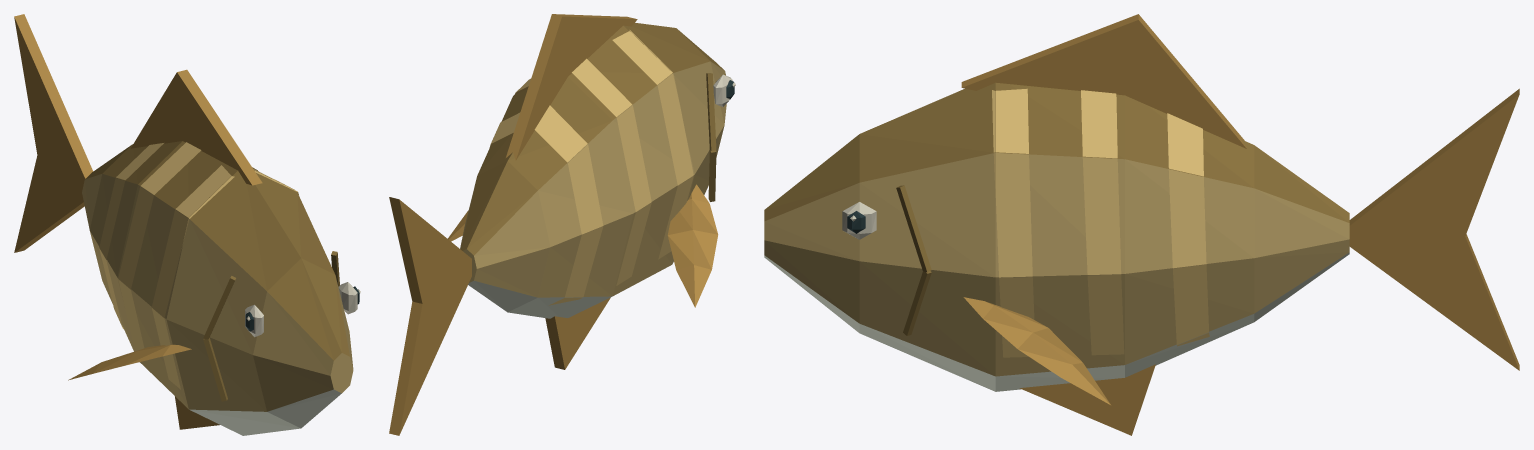
Rendered from fish_goldcarp.glb.
The picture shows the model from 3 angles, left to right: view 1: azimuth 30°, elevation 25°; view 2: azimuth 150°, elevation 25°; view 3: azimuth 270°, elevation 25°; orthographic projection. The views are drawn at different scales.
Parts seen in each view (by area): view 1: fish; view 2: fish; view 3: fish.
Part boxes in pixels (x1,y1,x2,y2): fish: [14, 14, 360, 435]; fish: [389, 14, 735, 435]; fish: [764, 14, 1519, 435].
Size of the model in its own units: 0.3465 by 0.4655 by 0.7659.
